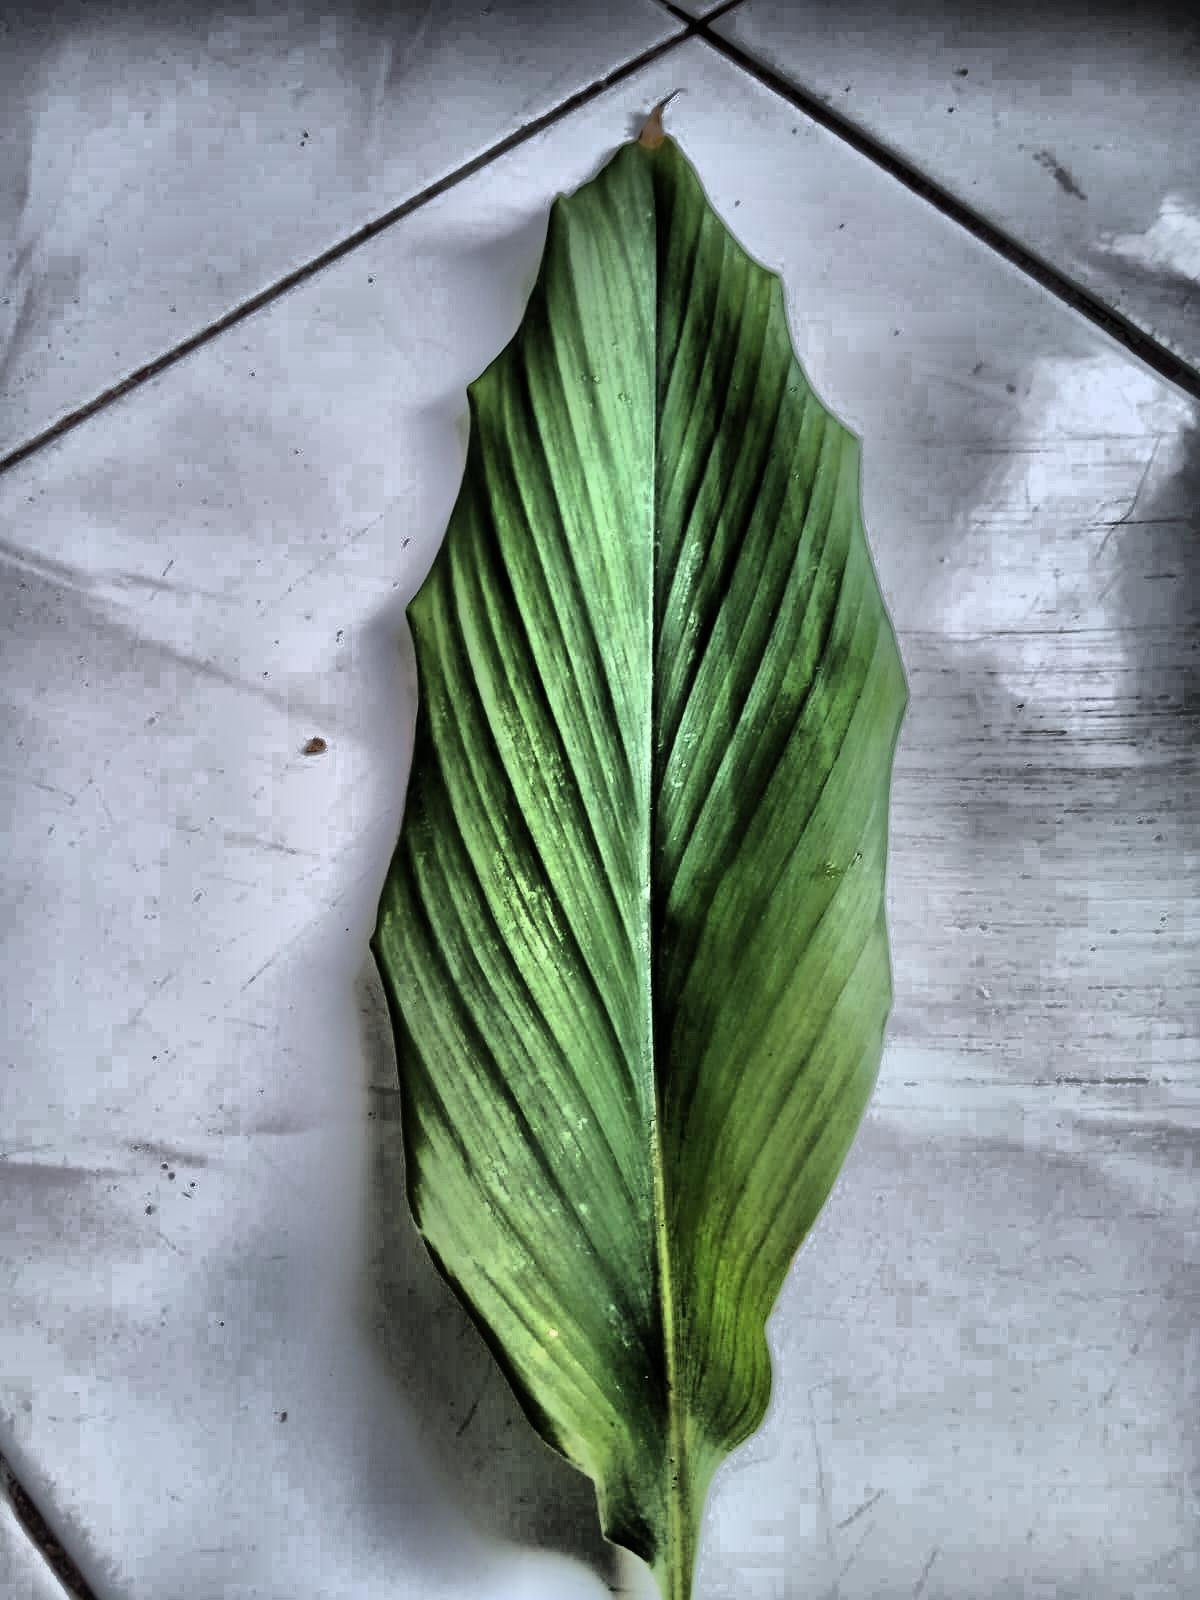daun kunyit: (374, 123, 905, 1599)
